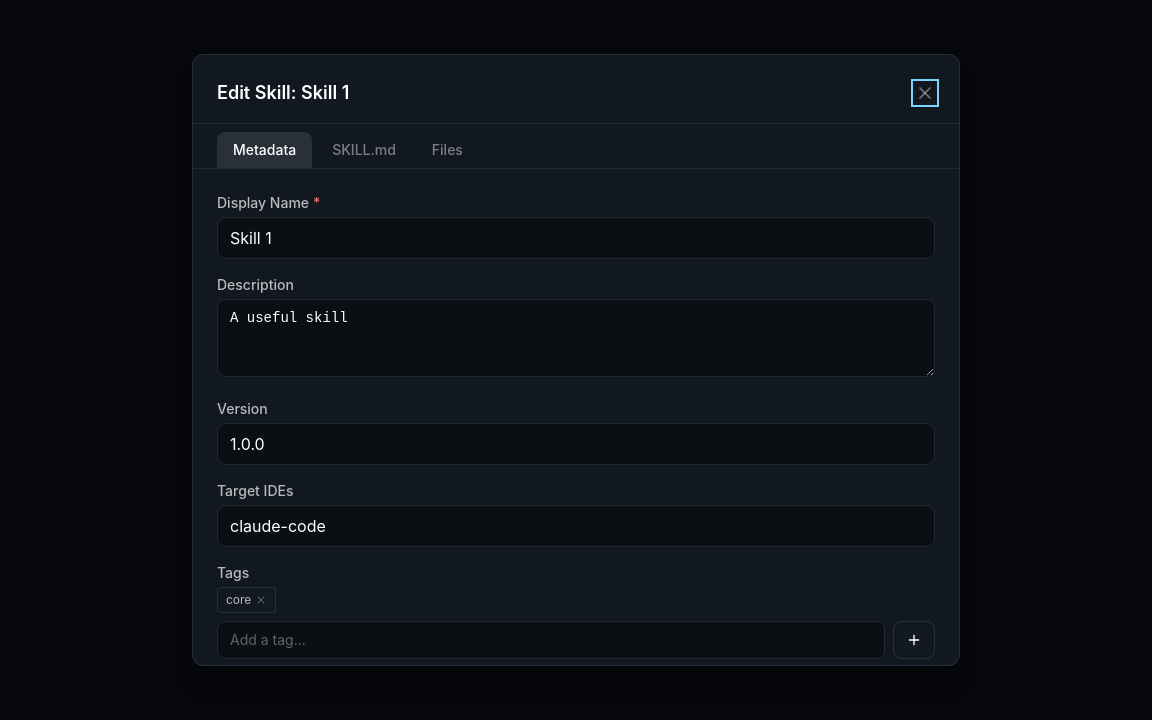
Test: SkillEditDialog › saves metadata updates and shows success feedback
This screenshot has width=1152, height=720.
Expected: the heading "Edit Skill: Skill 1" is shown, [217, 79, 349, 107]
Replace the text in the field below "Display Name" with "Skill One". click: (576, 238)
box: [217, 217, 935, 259]
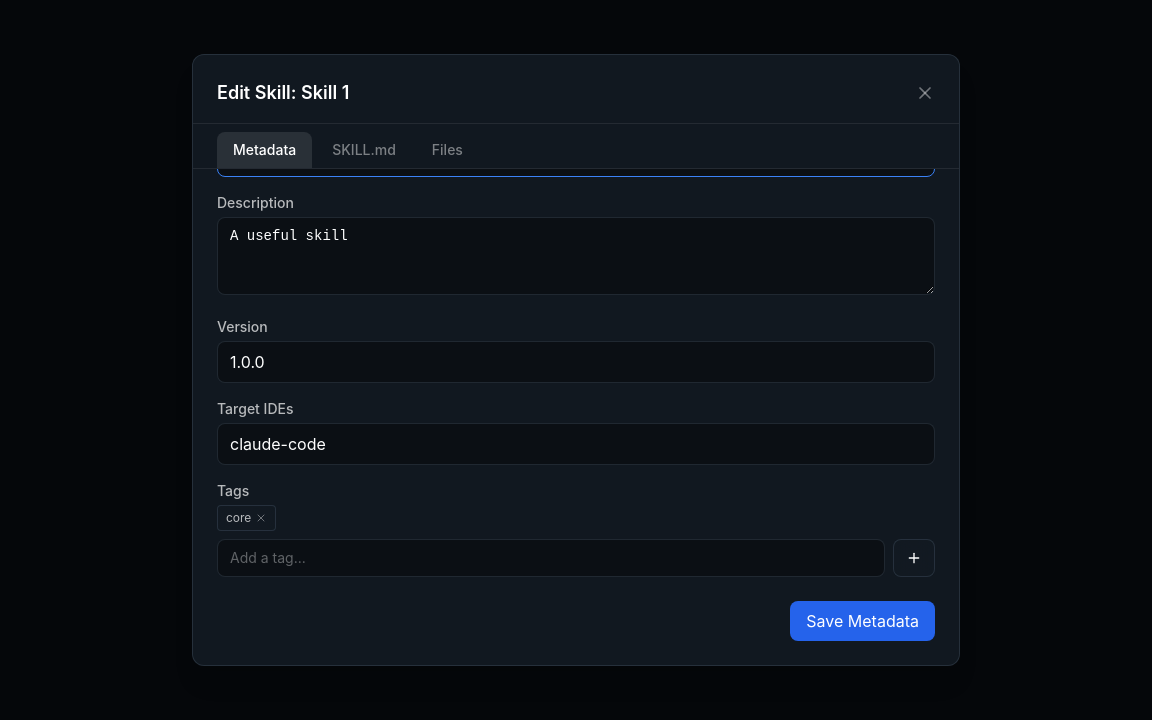
Click the button "Save Metadata". click: click(863, 621)
box: [790, 601, 935, 641]
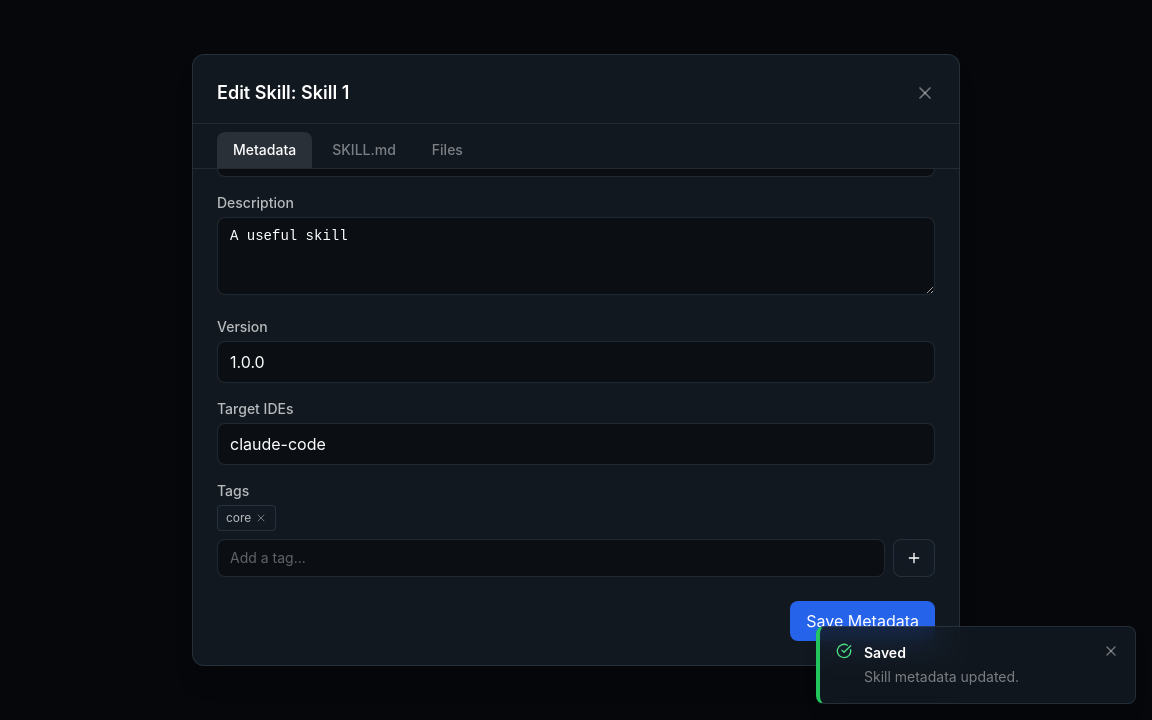
Expected: the text "Saved" is shown, [864, 644, 906, 661]
